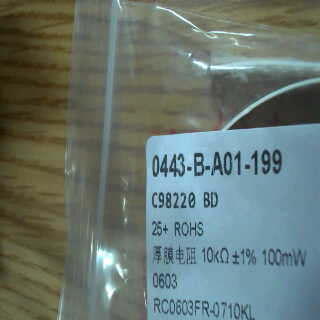10kR: (197, 243, 231, 269)
